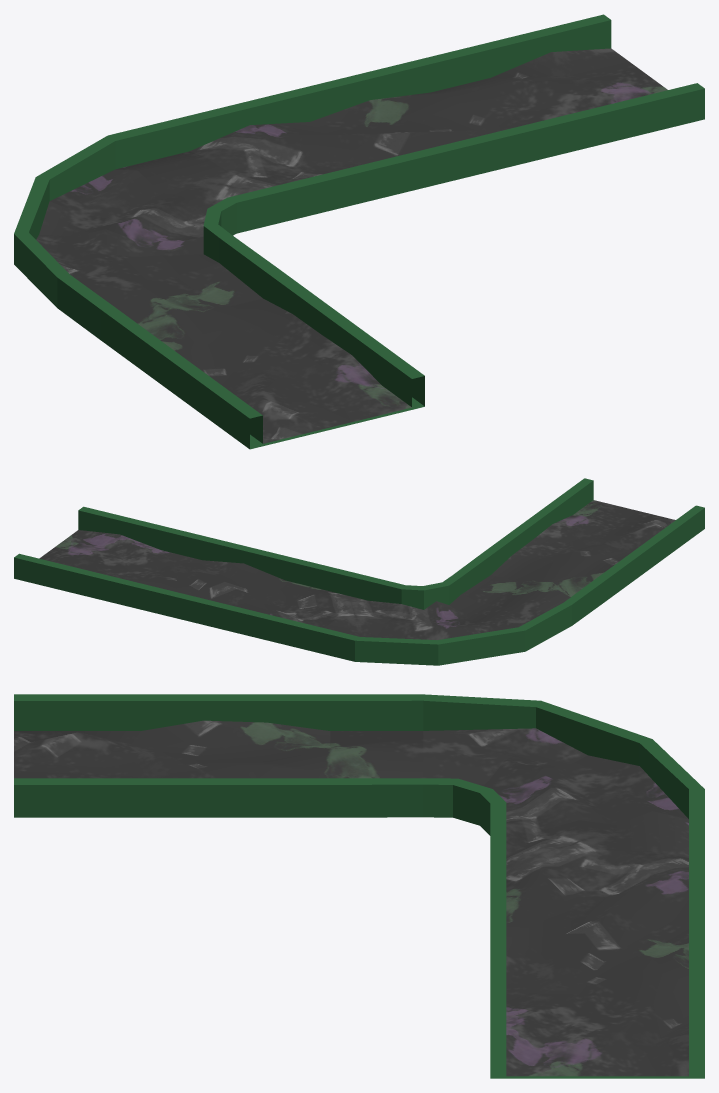
The model's file is conveergtrash.fbx.
3 views of the same model, one above another, from view 1: azimuth 30°, elevation 25°; view 2: azimuth 150°, elevation 25°; view 3: azimuth 270°, elevation 25° (orthographic). The views are drawn at different scales.
Visible parts, largest first — view 1: conveergsm; view 2: conveergsm; view 3: conveergsm.
Boxes of the visible parts, <box> form: conveergsm: <box>14,14,704,449</box>; conveergsm: <box>14,478,704,665</box>; conveergsm: <box>14,694,704,1078</box>.
Size of the model in its own units: 112 by 4.83 by 92.56.
2 materials, 2 textured.
